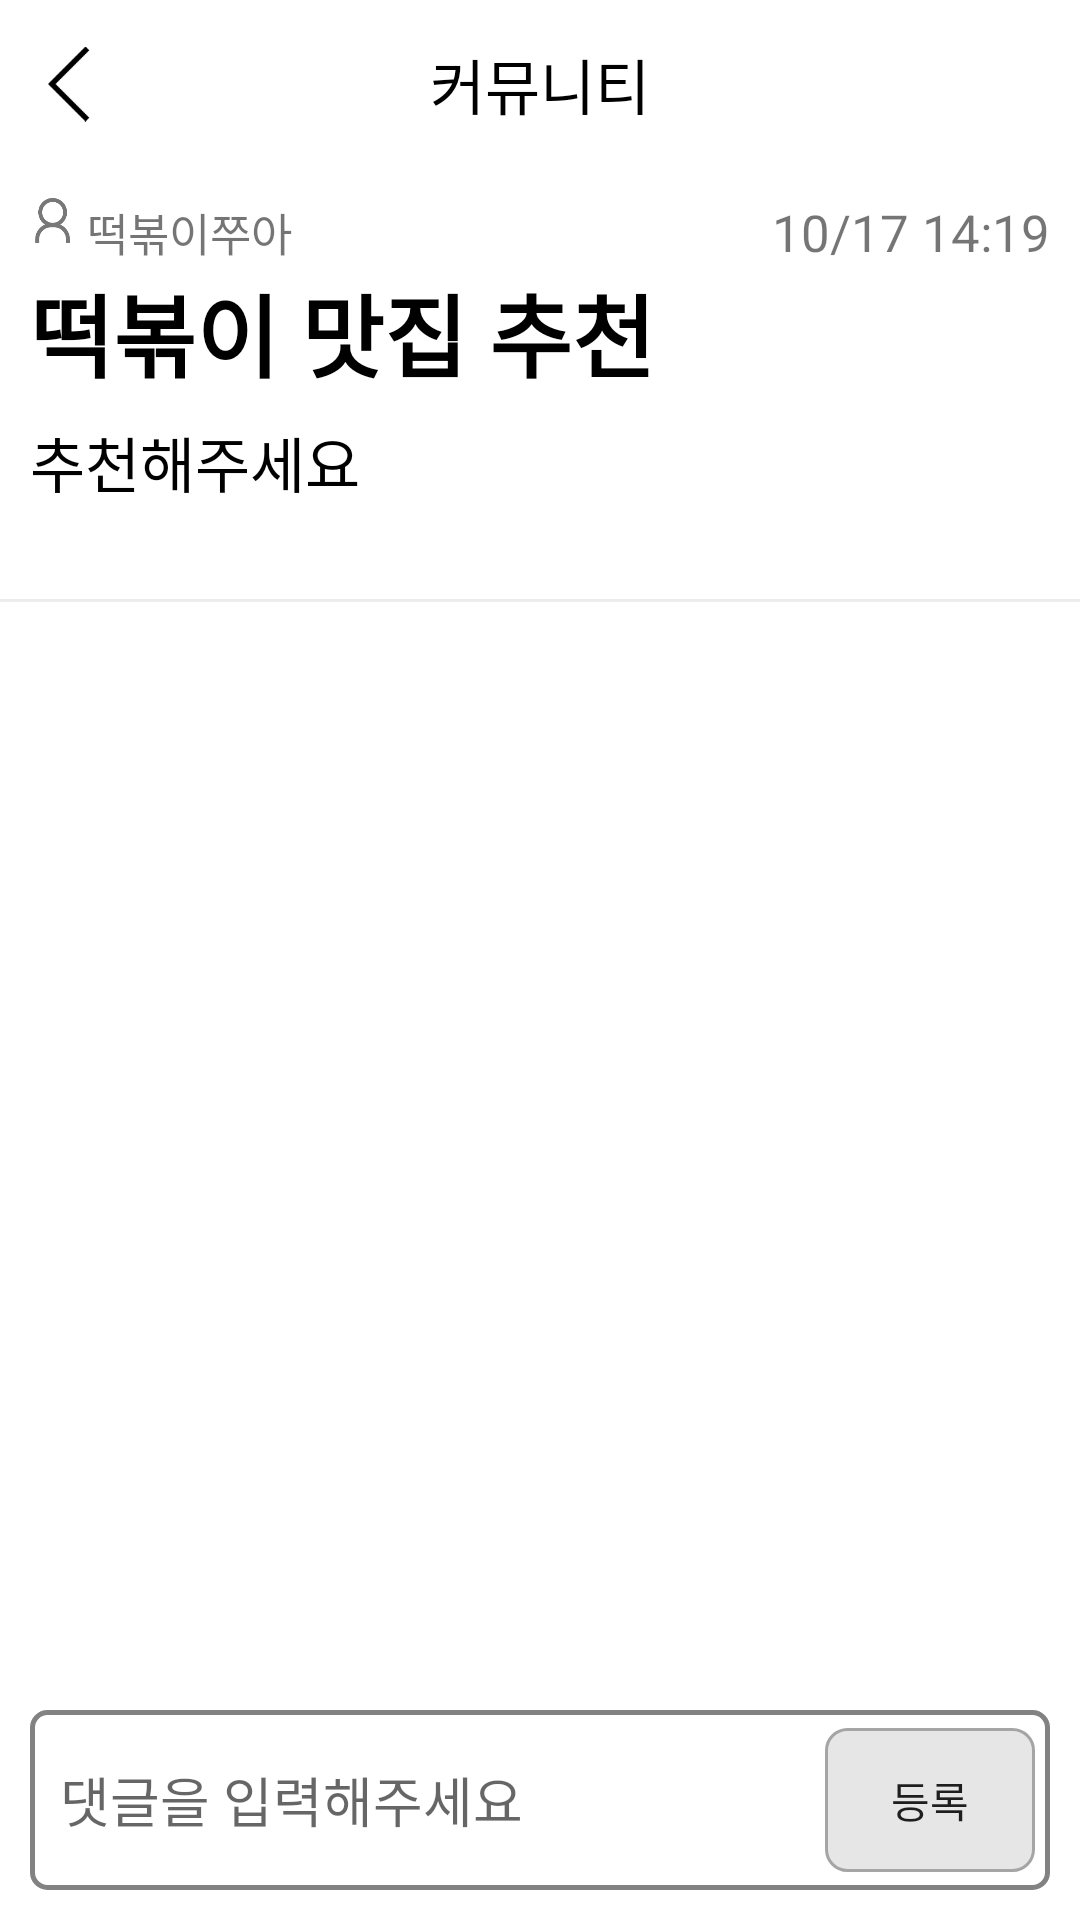

Named icons in this screenshot (1080w x 1920h) and their centers, (x,y):
back: (68,84)
